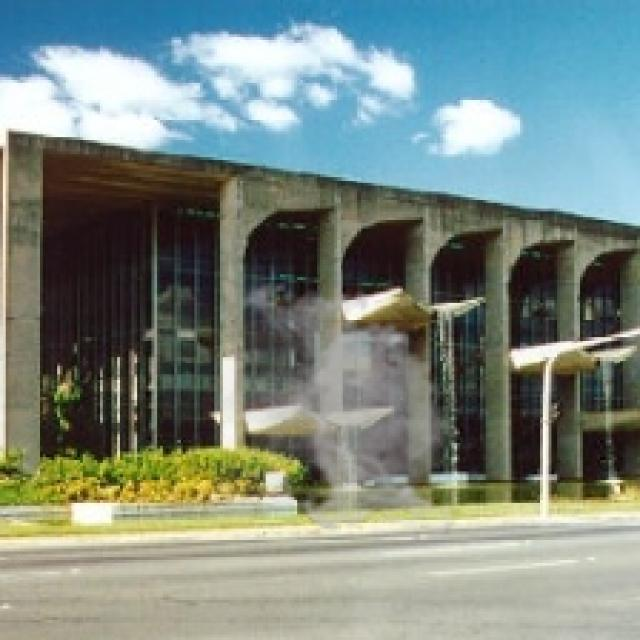smoke: (214, 274, 466, 534)
